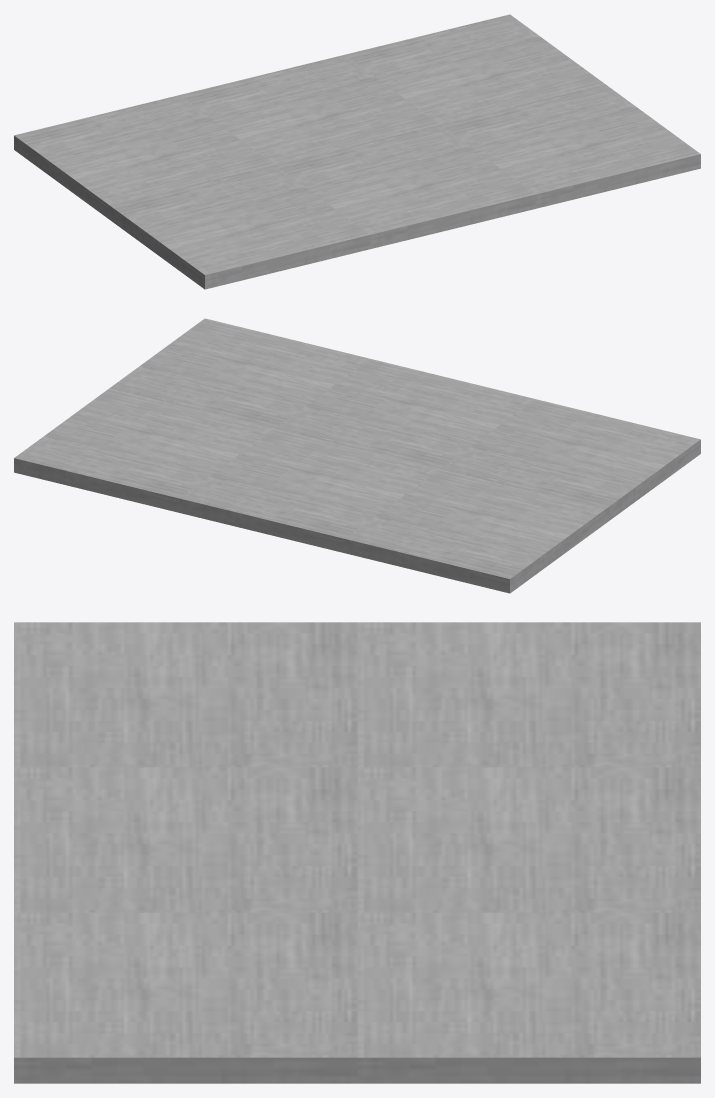
3 views of the same model, one above another, from view 1: azimuth 30°, elevation 25°; view 2: azimuth 150°, elevation 25°; view 3: azimuth 270°, elevation 25° (orthographic). The views are drawn at different scales.
Parts seen in each view (by area): view 1: Mesh1 mcGrid Model, Mesh3 Grid_copy_001 Model, Mesh5 Grid_copy_002 Model, Mesh7 Grid_copy_003 Model, Mesh9 Grid_copy_004 Model, Mesh11 Grid_copy_005 Model; view 2: Mesh7 Grid_copy_003 Model, Mesh9 Grid_copy_004 Model, Mesh11 Grid_copy_005 Model, Mesh1 mcGrid Model, Mesh3 Grid_copy_001 Model, Mesh5 Grid_copy_002 Model; view 3: Mesh5 Grid_copy_002 Model, Mesh11 Grid_copy_005 Model, Mesh1 mcGrid Model, Mesh3 Grid_copy_001 Model, Mesh9 Grid_copy_004 Model, Mesh7 Grid_copy_003 Model.
Part boxes in pixels (x1,y1,x2,y2): Mesh1 mcGrid Model: (109, 165, 370, 289); Mesh3 Grid_copy_001 Model: (275, 124, 535, 248); Mesh5 Grid_copy_002 Model: (440, 84, 700, 208); Mesh7 Grid_copy_003 Model: (14, 95, 274, 219); Mesh9 Grid_copy_004 Model: (179, 54, 439, 164); Mesh11 Grid_copy_005 Model: (345, 14, 604, 124); Mesh7 Grid_copy_003 Model: (344, 469, 605, 593); Mesh9 Grid_copy_004 Model: (179, 428, 439, 552); Mesh11 Grid_copy_005 Model: (14, 388, 274, 512); Mesh1 mcGrid Model: (440, 399, 700, 523); Mesh3 Grid_copy_001 Model: (275, 358, 535, 468); Mesh5 Grid_copy_002 Model: (110, 318, 369, 428); Mesh5 Grid_copy_002 Model: (14, 912, 357, 1083); Mesh11 Grid_copy_005 Model: (357, 912, 700, 1083); Mesh1 mcGrid Model: (14, 622, 357, 767); Mesh3 Grid_copy_001 Model: (14, 767, 357, 912); Mesh9 Grid_copy_004 Model: (357, 767, 700, 912); Mesh7 Grid_copy_003 Model: (357, 622, 700, 767).
Bounding box in the file's own units: 36 × 1 × 24.
Materials: 1 (1 with a texture image).
